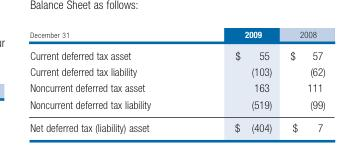table: (29, 28, 324, 132)
table column: (29, 28, 192, 132), (192, 28, 280, 132), (280, 28, 324, 132)
table column header: (29, 28, 324, 43)
table row: (29, 95, 324, 115), (29, 43, 324, 62), (29, 62, 324, 79), (29, 115, 324, 132), (29, 79, 324, 95), (29, 28, 324, 43)
